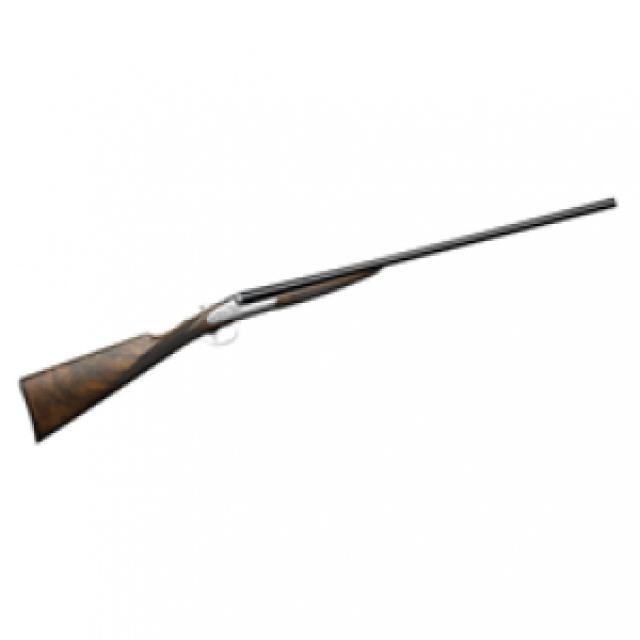rifle: (17, 191, 622, 450)
